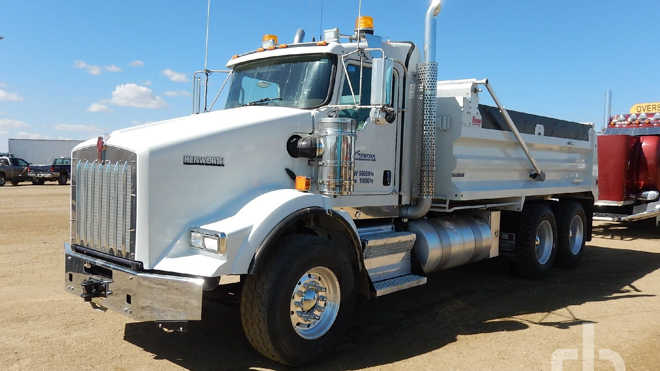truck: (61, 12, 605, 368)
